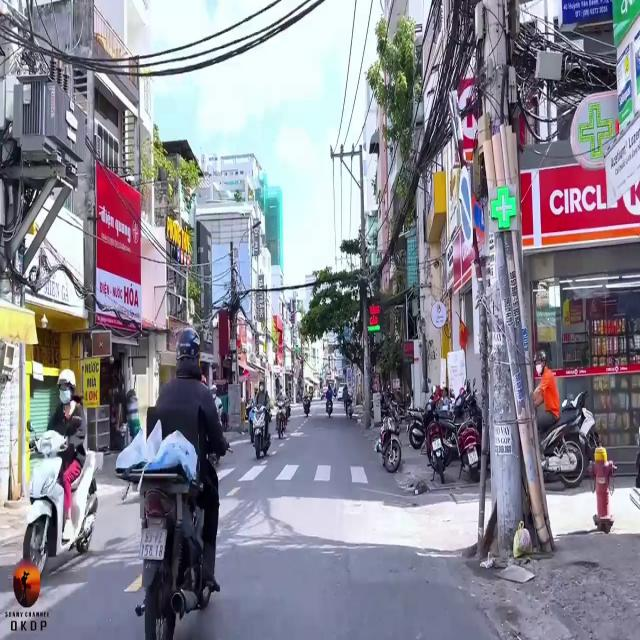bien_trang: (139, 529, 170, 559)
